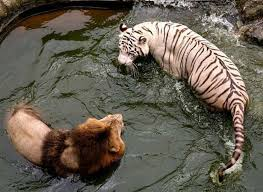lion: (4, 105, 129, 176)
tiger: (116, 20, 249, 182)
